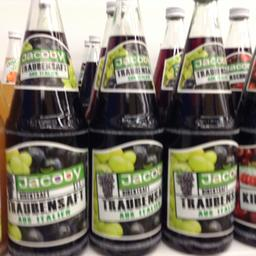juice: (4, 0, 90, 255), (161, 0, 240, 254), (90, 0, 164, 254)
